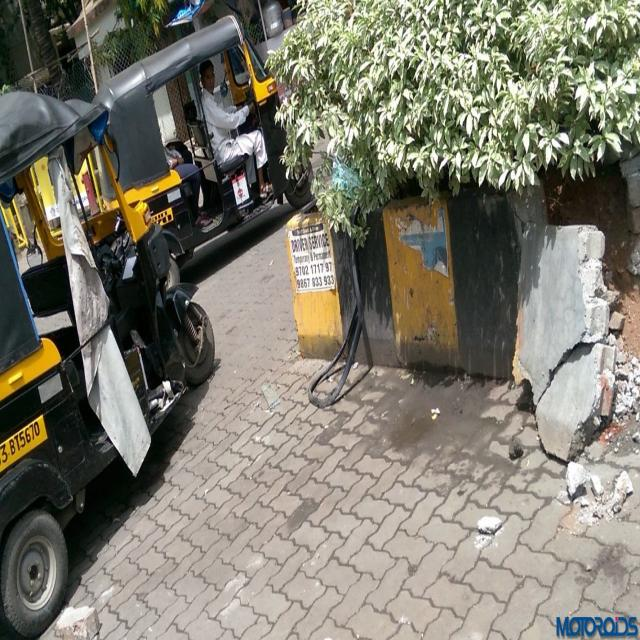autorickshaw: (0, 93, 214, 635), (94, 14, 312, 264)
